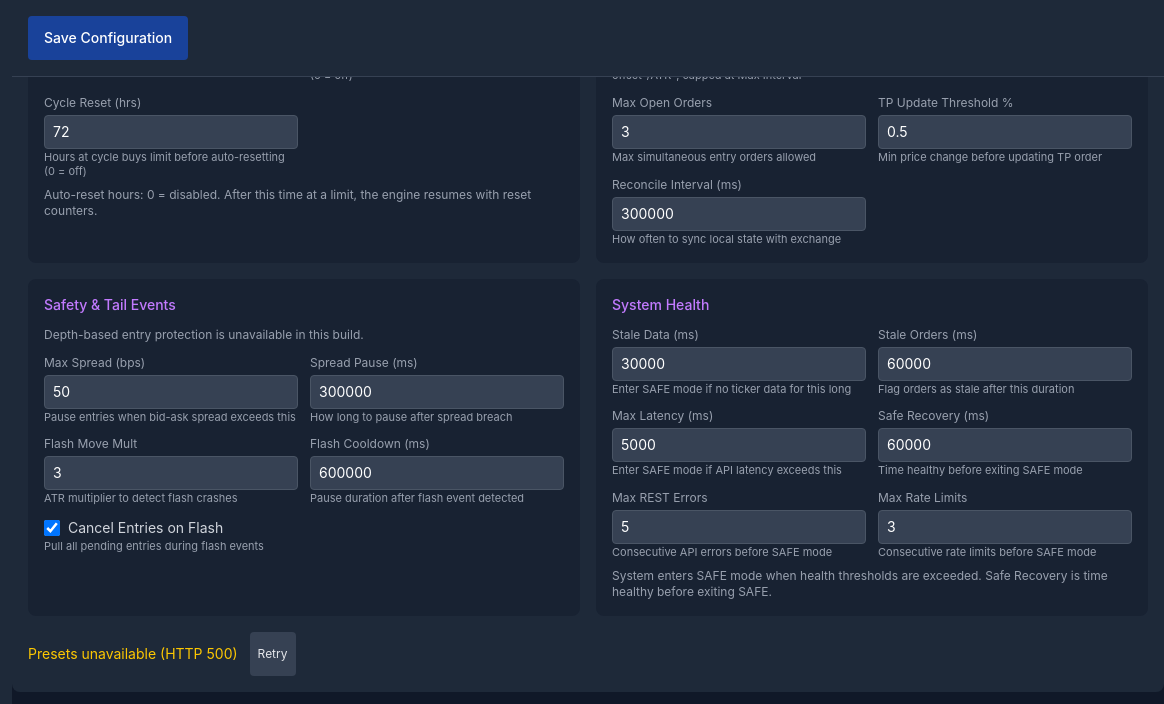
it: config editor shows Presets unavailable for a failed read and shows the editor after Retry
(page scrolled)
Expected: the text "Presets unavailable (HTTP 500)" is shown, [28, 644, 238, 664]
Expected: the text "Aggressiveness Presets" is not shown
Click the button "Retry" at (273, 654), box [250, 632, 296, 676]
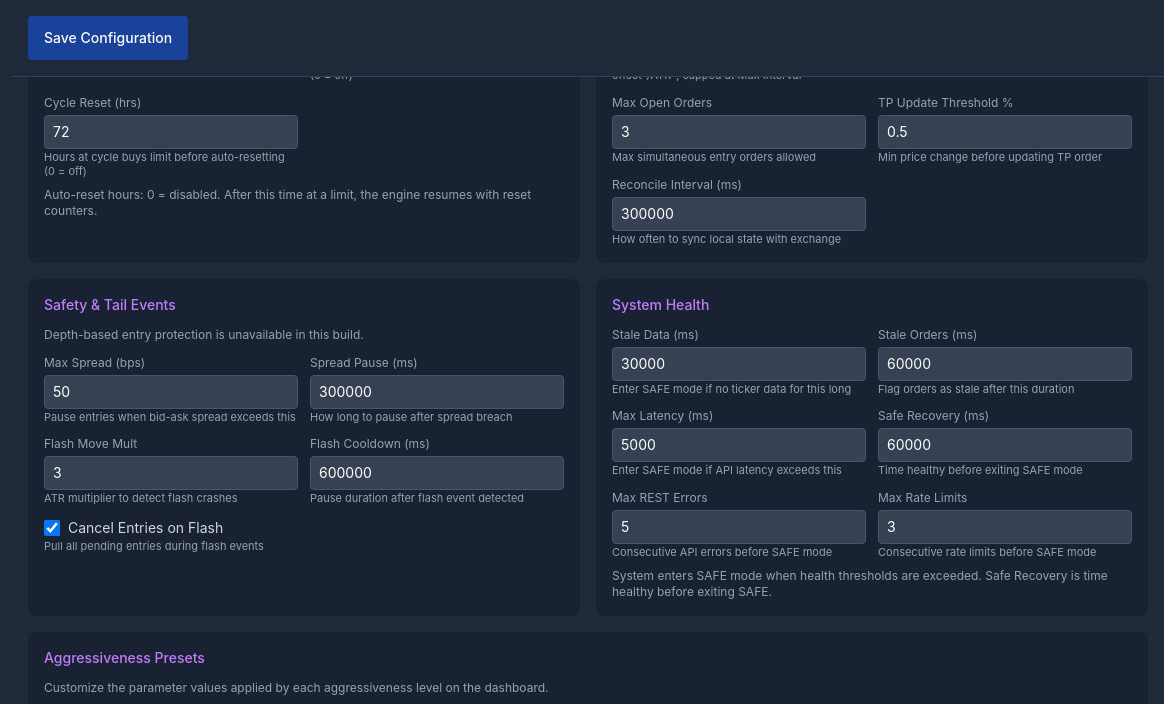
Expected: the heading "Aggressiveness Presets" is shown, [44, 649, 205, 666]
Expected: the text "Presets unavailable" is gone
